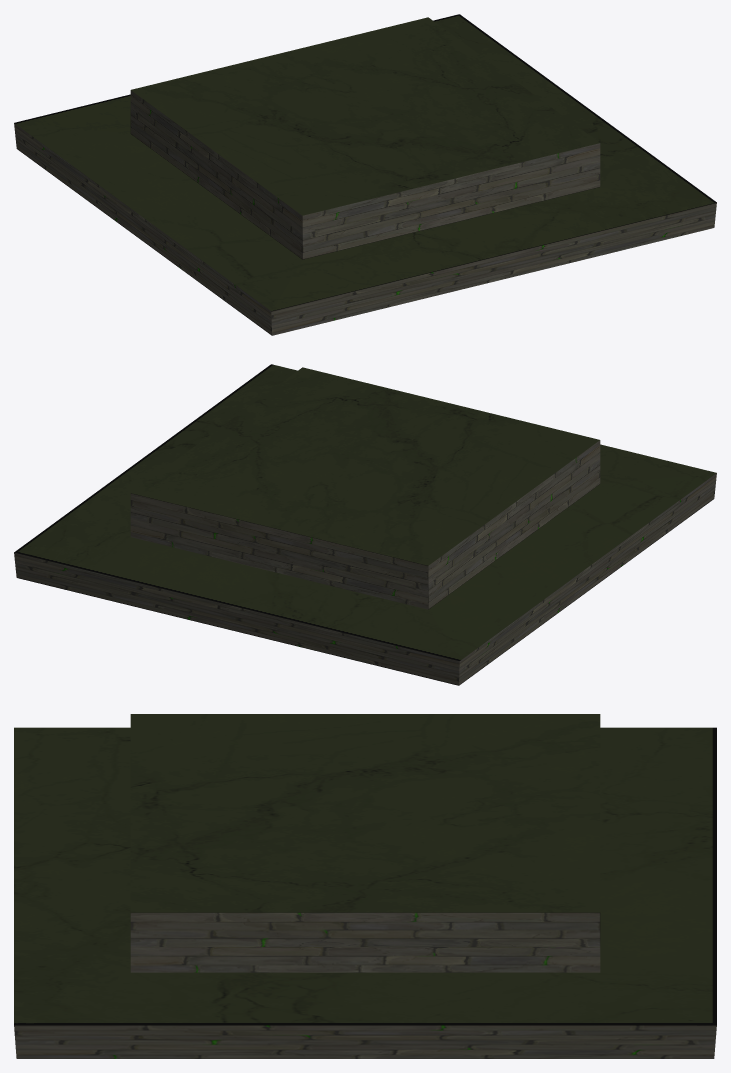
The model's file is SM_Pillar_Base.fbx.
3 renders of one model, top to bottom at view 1: azimuth 30°, elevation 25°; view 2: azimuth 150°, elevation 25°; view 3: azimuth 270°, elevation 25°, orthographic. The views are drawn at different scales.
Parts seen in each view (by area): view 1: polySurface47; view 2: polySurface47; view 3: polySurface47.
Boxes of the visible parts, x1=… form: polySurface47: x1=14, y1=14, x2=716, y2=335; polySurface47: x1=14, y1=364, x2=716, y2=685; polySurface47: x1=14, y1=714, x2=716, y2=1058.
Bounding box in the file's own units: 0.7792 × 0.1201 × 0.7792.
